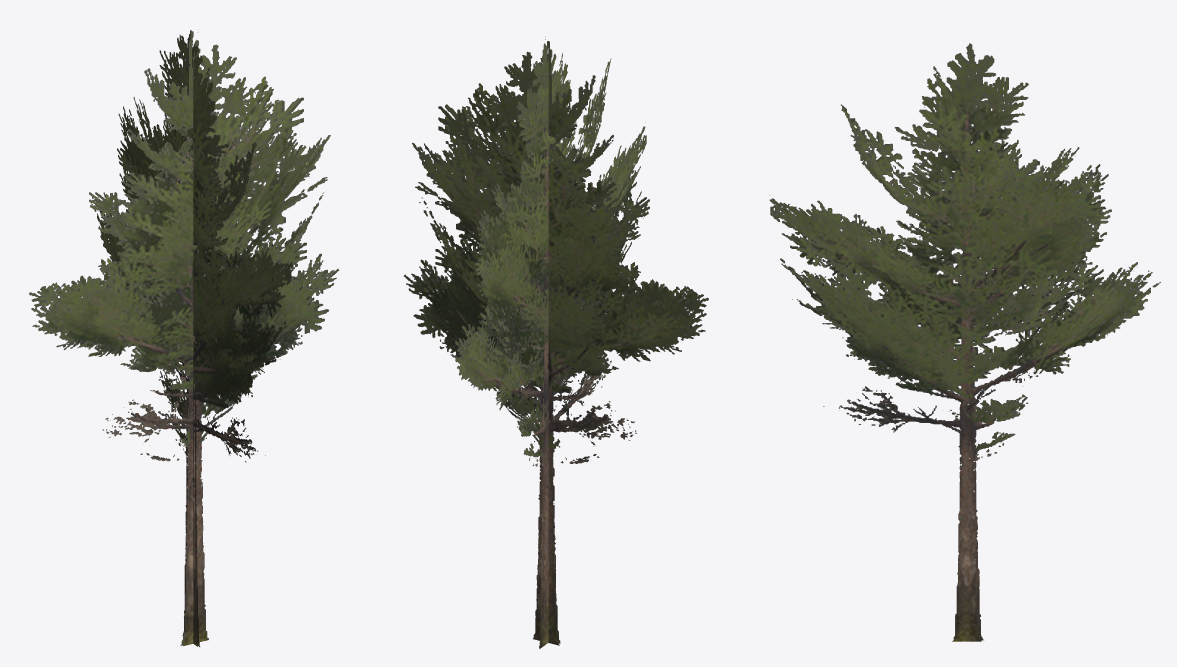
Rendered from Billboard_Pine_02.fbx.
The picture shows the model from 3 angles, left to right: view 1: azimuth 30°, elevation 25°; view 2: azimuth 150°, elevation 25°; view 3: azimuth 270°, elevation 25°; orthographic projection. The views are drawn at different scales.
Parts seen in each view (by area): view 1: Billboard_Pine_02; view 2: Billboard_Pine_02; view 3: Billboard_Pine_02.
Boxes of the visible parts, bbox=[...] form: Billboard_Pine_02: bbox=[29, 29, 339, 646]; Billboard_Pine_02: bbox=[403, 37, 708, 648]; Billboard_Pine_02: bbox=[769, 43, 1160, 641].
Size of the model in its own units: 330 by 564 by 348.
